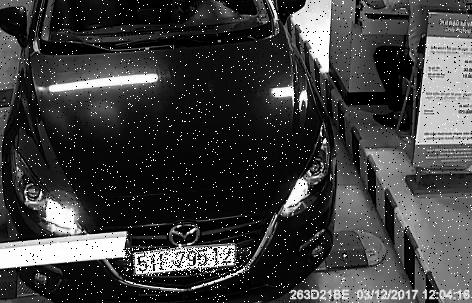License-plate: (124, 248, 252, 277)
